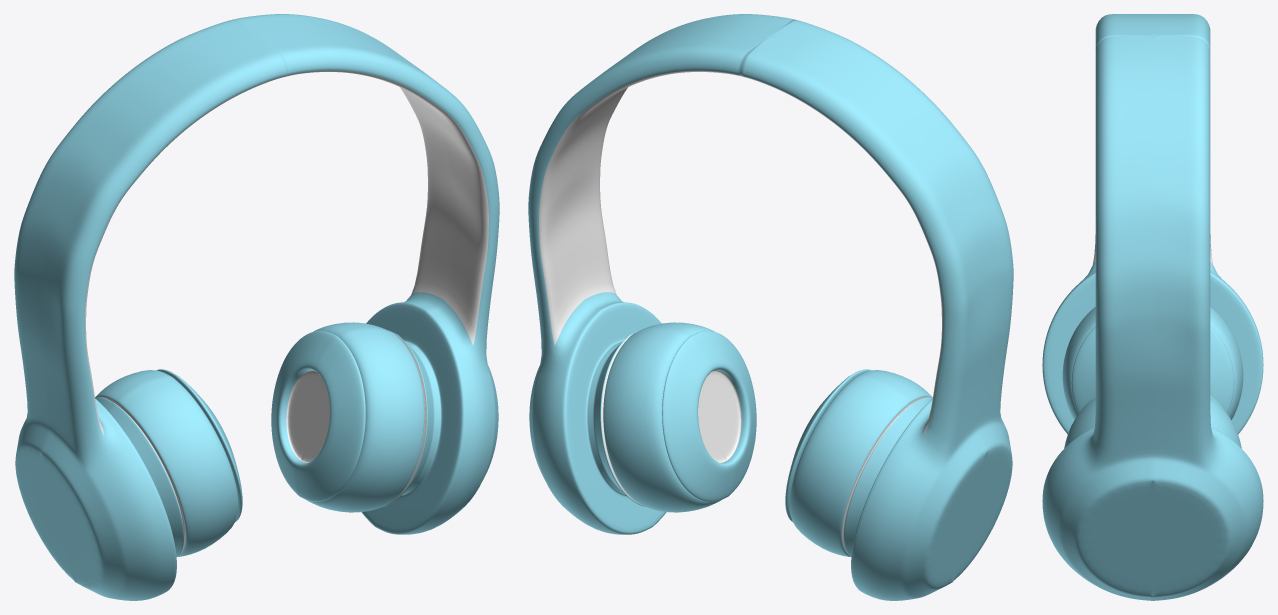
Rendered from kulaklk.fbx.
3 renders of one model, left to right at view 1: azimuth 30°, elevation 25°; view 2: azimuth 150°, elevation 25°; view 3: azimuth 270°, elevation 25°, orthographic. The views are drawn at different scales.
Visible parts, largest first — view 1: Cylinder.001; view 2: Cylinder.001; view 3: Cylinder.001.
Part boxes in pixels (x1,y1,x2,y2): Cylinder.001: [14, 14, 499, 600]; Cylinder.001: [528, 14, 1013, 600]; Cylinder.001: [1042, 14, 1263, 600].
Bounding box in the file's own units: 646 × 739 × 298.
